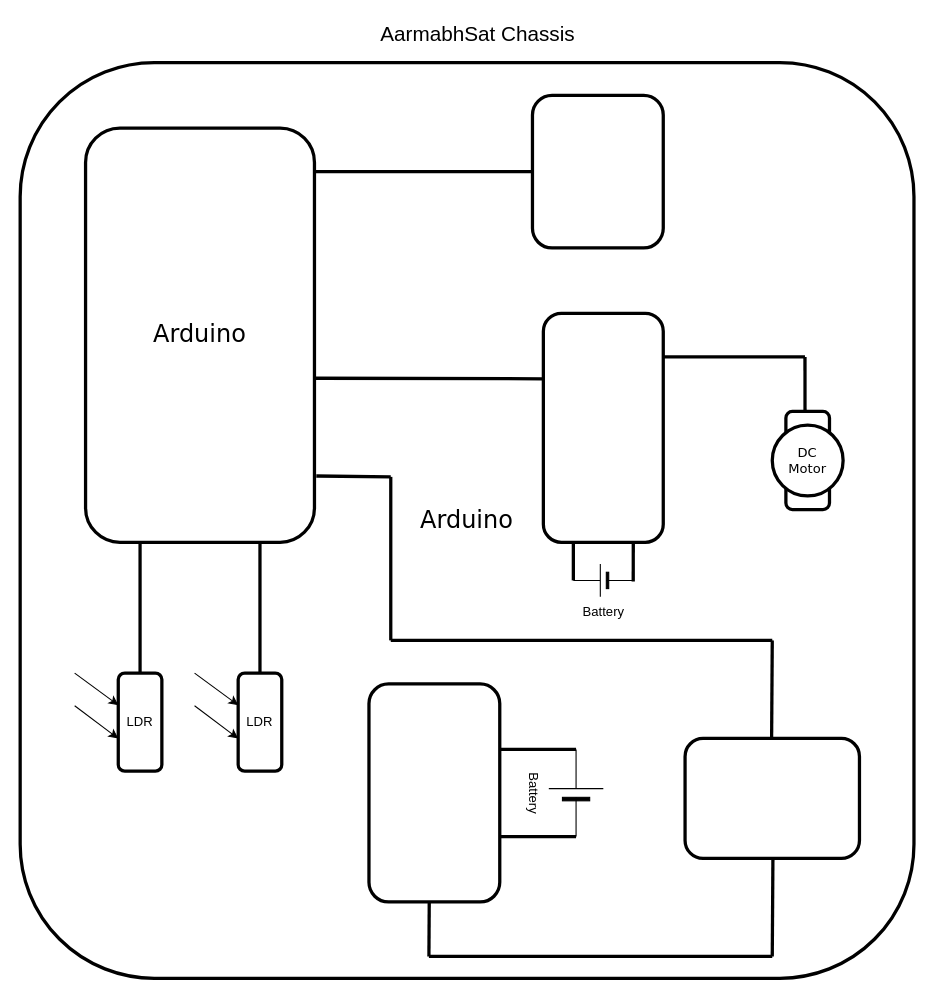
Image size: 934x998. Some labels were removed from this diagram. The centre of each missing label's shape, as x and y in pixels:
"L293 Motor Driver" belongs at point (602, 427).
"MPU6050" belongs at point (597, 171).
"TP4056 Charging Module" belongs at point (434, 792).
"XL6009 Stepper Booster" belongs at point (772, 797).
